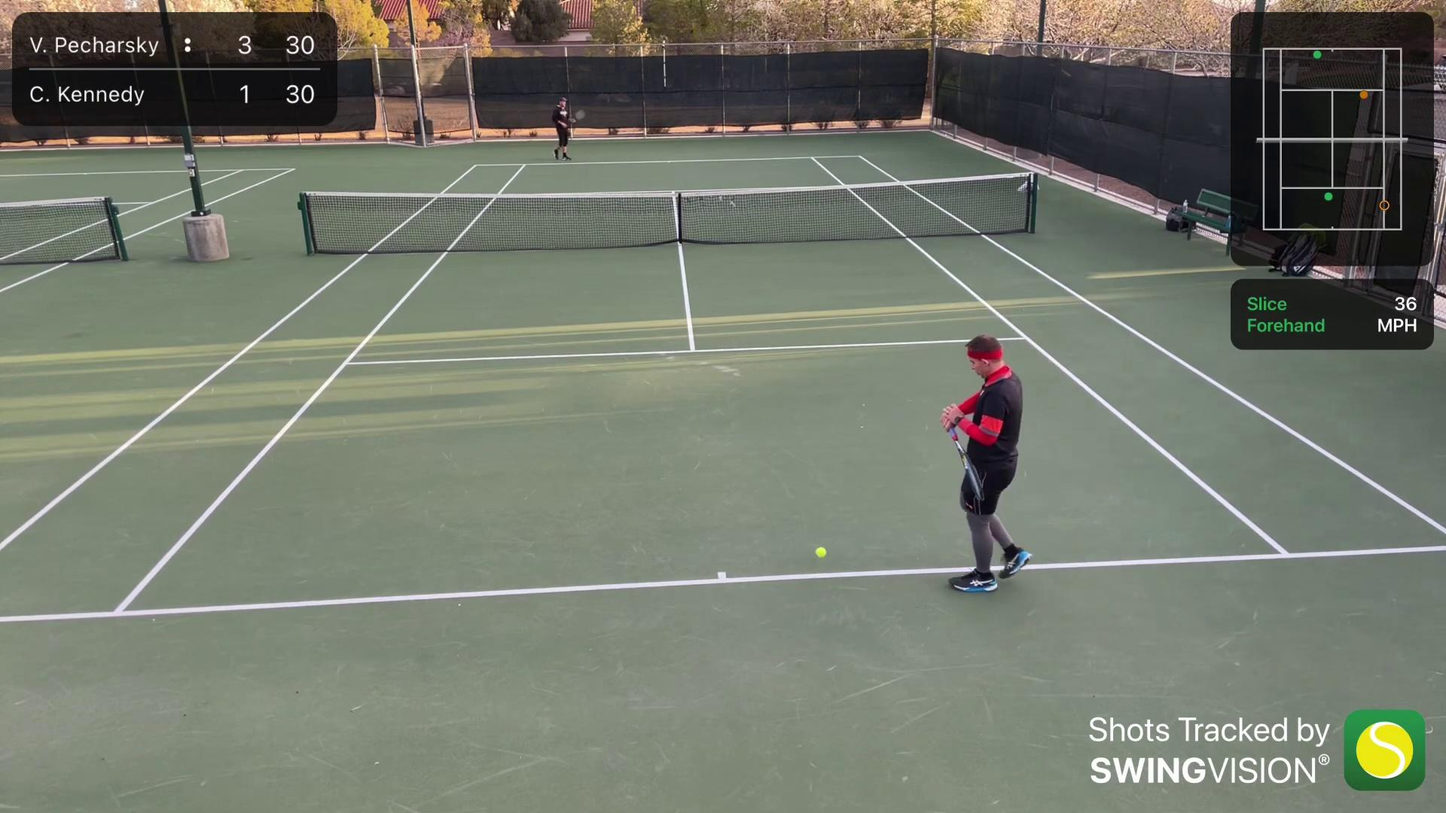ball: (813, 546, 829, 560)
